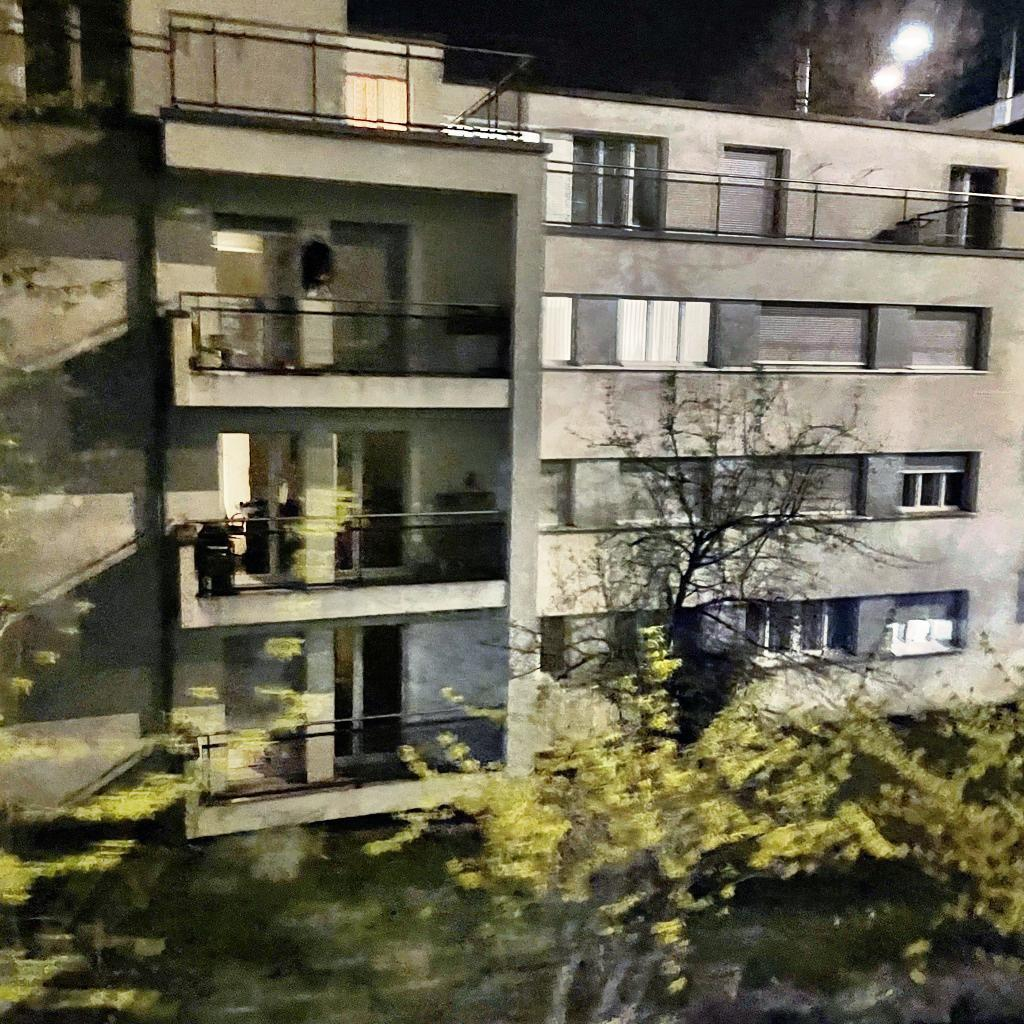balcony-fence: (0, 5, 538, 141), (544, 162, 1024, 253), (189, 700, 511, 813), (183, 509, 511, 602), (178, 293, 516, 377)
facade: (0, 0, 1024, 1024)
vegetation: (0, 10, 1024, 1023)
window: (213, 210, 298, 373), (224, 632, 308, 792), (216, 432, 302, 576), (332, 221, 411, 375), (332, 430, 406, 572), (331, 626, 403, 765), (570, 129, 663, 229), (744, 594, 859, 663), (614, 296, 713, 371), (759, 304, 871, 364), (718, 143, 783, 236), (945, 165, 1007, 249), (911, 306, 981, 365), (901, 465, 971, 514), (348, 74, 407, 132), (536, 294, 575, 369)
